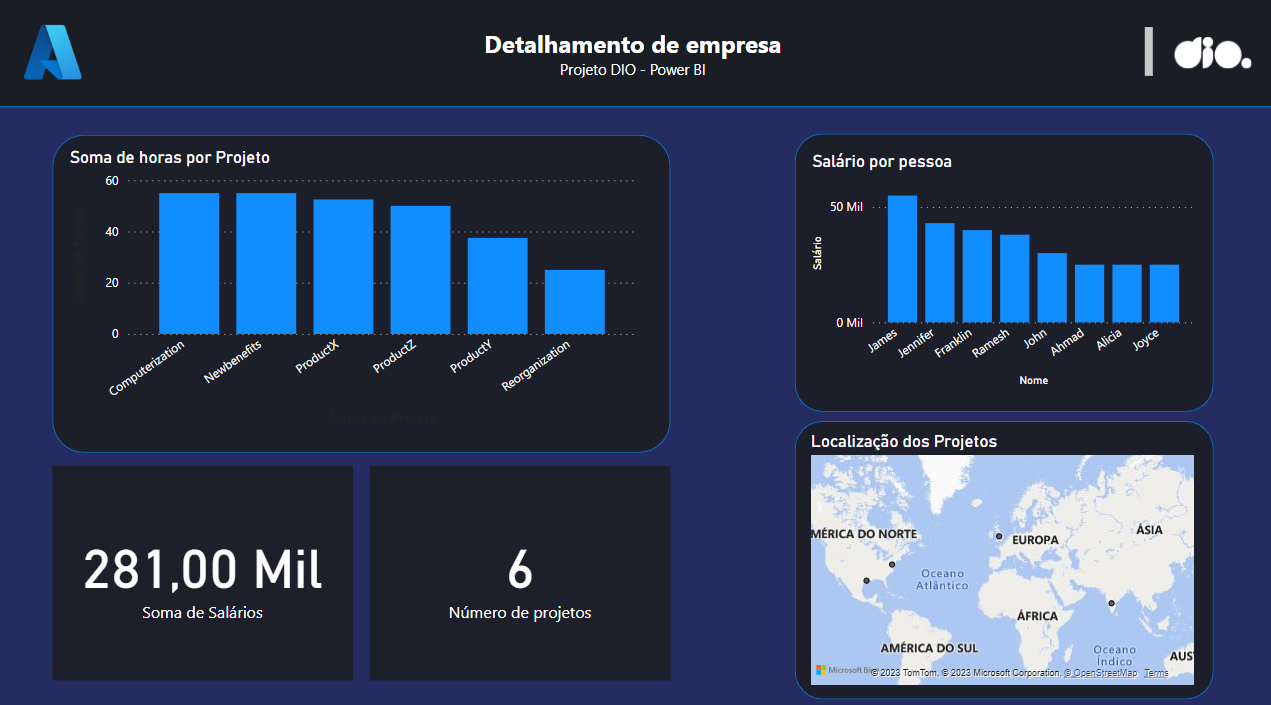

What the dashboard file says about the page in this screenshot:
{"tool":"powerbi","page":{"name":"Página 1","canvas":[1280,720],"ordinal":0},"visuals":[{"type":"shape","box":[0,0,1280.5,719.7],"z":0},{"type":"shape","box":[0,0,1280.6,111.1],"z":1000},{"type":"image","box":[19.6,19.6,73.3,72.1],"z":2000},{"type":"image","box":[1173.6,16.5,86.4,80.9],"z":3000},{"type":"shape","box":[56.2,138.5,618.3,318.1],"z":4000},{"type":"shape","box":[798.1,138,419,278.5],"z":5000},{"type":"clusteredColumnChart","title":"Soma de horas por Projeto","fields":{"Category":["azure_company project.Nome do Projeto"],"Y":["azure_company works_on.Hours"]},"box":[68.3,151,577.9,283.7],"z":6000},{"type":"shape","box":[798.1,425.2,419,278.5],"z":7000},{"type":"clusteredColumnChart","title":"Salário por pessoa ","fields":{"Category":["azure_company employee.Fname"],"Y":["azure_company employee.Salary"]},"box":[811.7,155,392.7,240.3],"z":8000},{"type":"map","fields":{"Category":["azure_company project.Localização do Projeto"]},"box":[810.3,434.7,392.7,258.7],"z":9000},{"type":"card","fields":{"Values":["azure_company project.Número do projeto"]},"box":[374.3,470.2,300.8,214.1],"z":10000},{"type":"card","fields":{"Values":["azure_company employee.Salary"]},"box":[56.5,470.2,300.8,214.1],"z":11000},{"type":"textbox","box":[119.5,26.3,1041.5,60.4],"z":12000}]}

Visuals, with their boxes in screenshot pixels (x1, y1, x2, y2), scaled from the page's 1280x720 canvas onto the 1271x705 screenshot:
shape: x1=0 y1=0 x2=1270 y2=704
shape: x1=0 y1=0 x2=1270 y2=109
image: x1=19 y1=19 x2=92 y2=90
image: x1=1165 y1=16 x2=1251 y2=95
shape: x1=56 y1=136 x2=670 y2=447
shape: x1=792 y1=135 x2=1209 y2=408
"Soma de horas por Projeto" clusteredColumnChart: x1=68 y1=148 x2=642 y2=426
shape: x1=792 y1=416 x2=1209 y2=689
"Salário por pessoa " clusteredColumnChart: x1=806 y1=152 x2=1196 y2=387
map - azure_company project.Localização do Projeto: x1=805 y1=426 x2=1195 y2=679
card - azure_company project.Número do projeto: x1=372 y1=460 x2=670 y2=670
card - azure_company employee.Salary: x1=56 y1=460 x2=355 y2=670
textbox: x1=119 y1=26 x2=1153 y2=85
